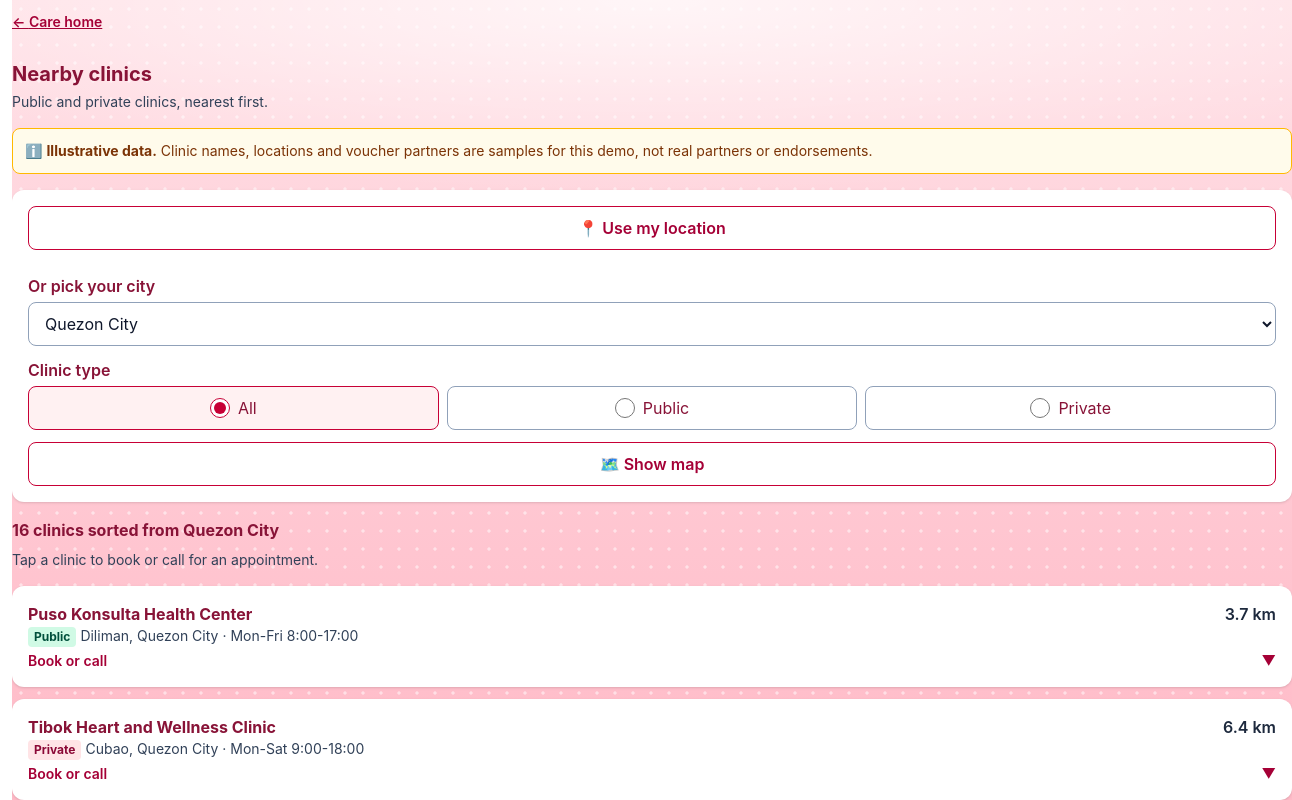
Test case: clinic finder screen › tapping a clinic shows its booking link and appointment number
Expected: the link "Book an appointment online" is not shown
Click the button "Puso Konsulta Health Center": (140, 614) [28,602,1276,671]
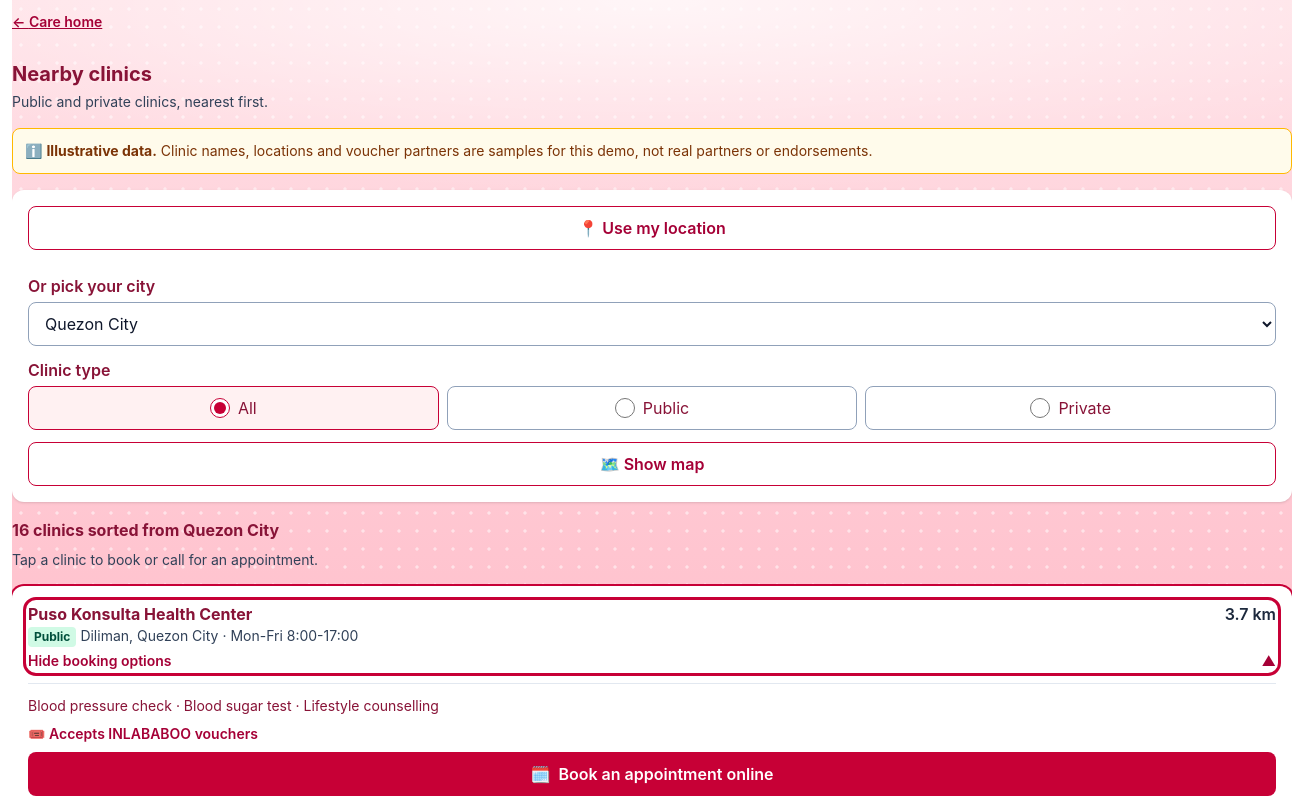
Result: the button "Puso Konsulta Health Center" is expanded
Click the button "Puso Konsulta Health Center": (140, 614) [28,602,1276,671]
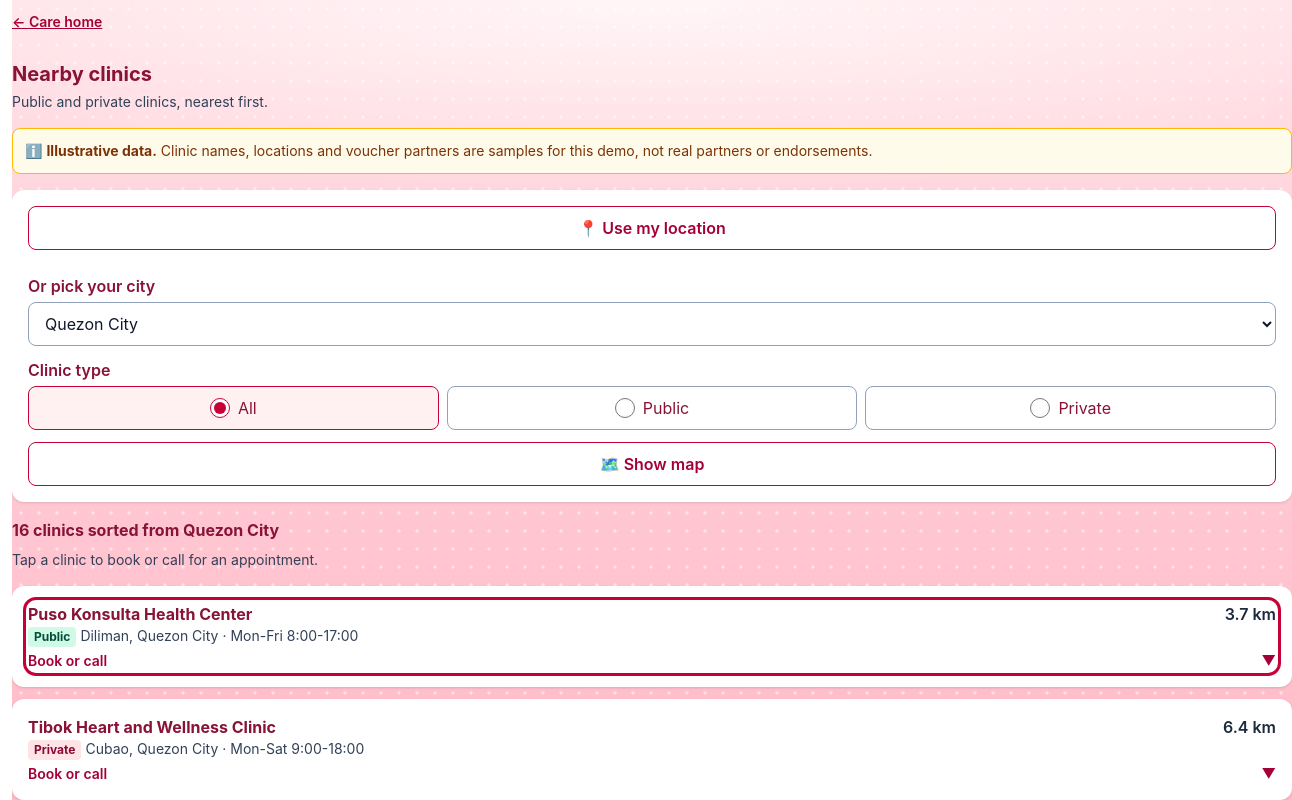
Result: the button "Puso Konsulta Health Center" is collapsed at [28,602,1276,671]
